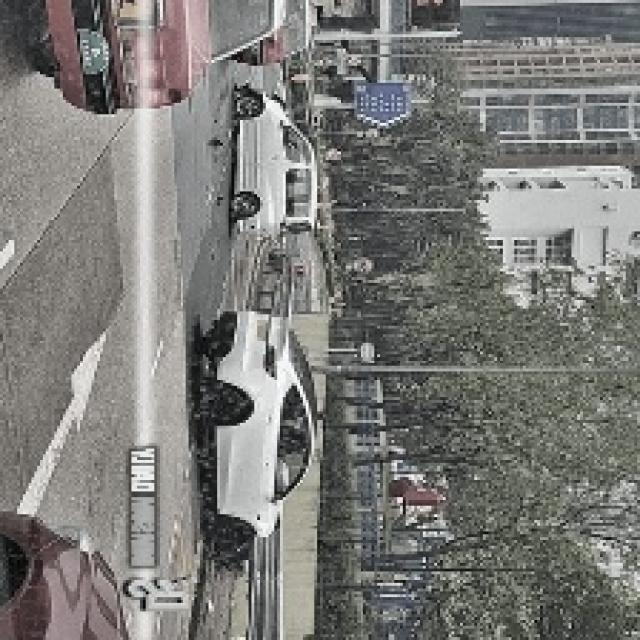car: (201, 296, 307, 549), (225, 83, 322, 245), (238, 2, 322, 61)
